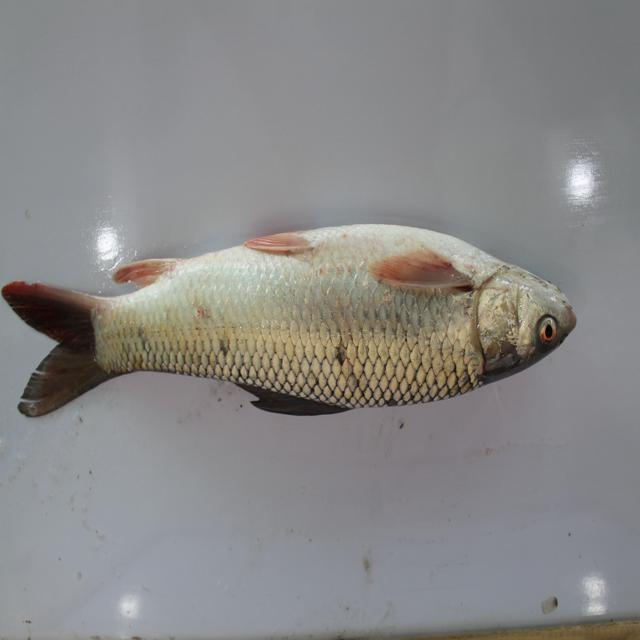Mori: (6, 216, 577, 442)
